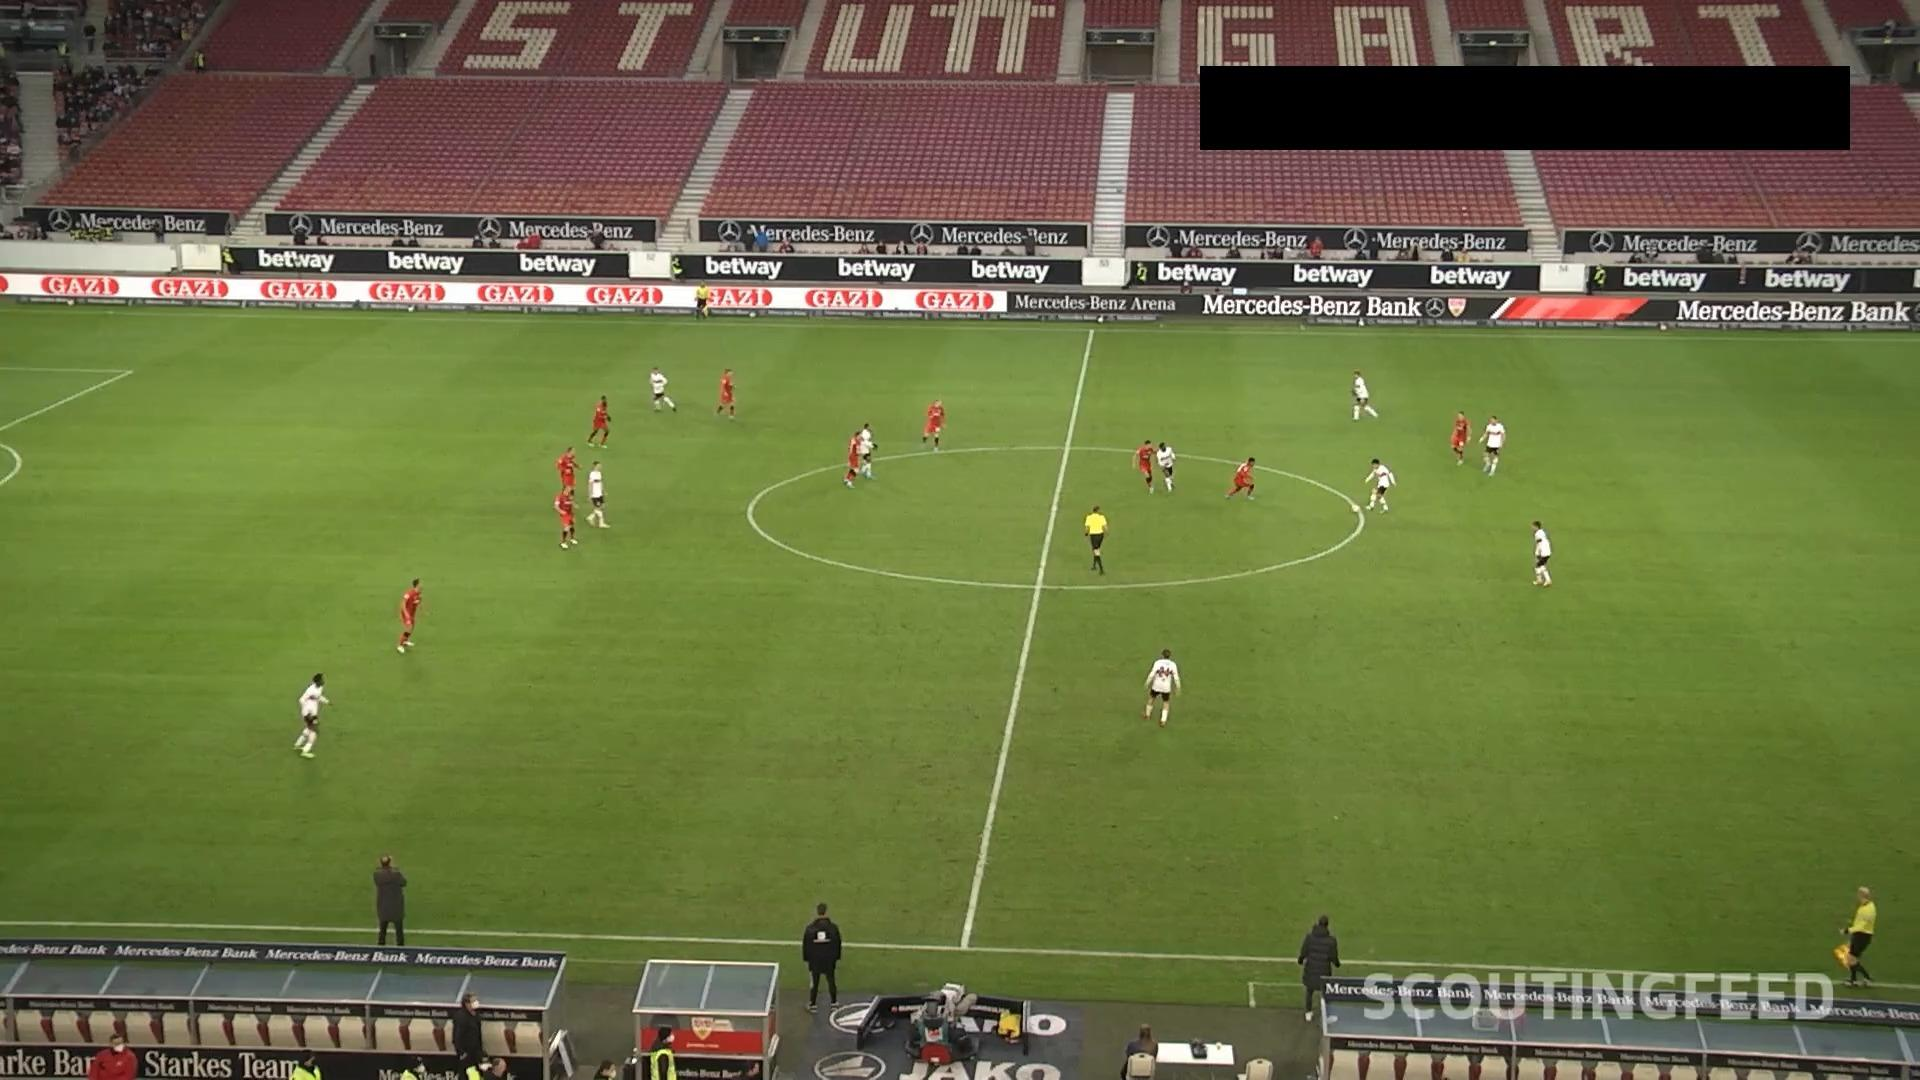ball: (1350, 501, 1361, 513)
